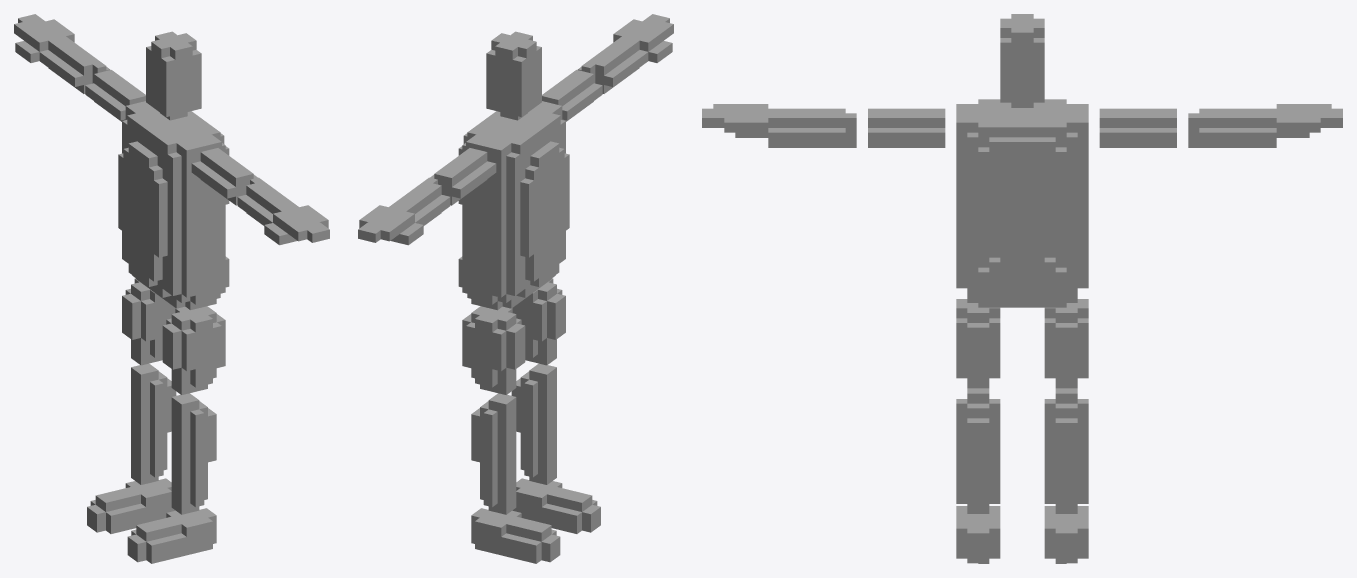
File: Human_01.obj
3 renders of one model, left to right at view 1: azimuth 30°, elevation 25°; view 2: azimuth 150°, elevation 25°; view 3: azimuth 270°, elevation 25°, orthographic. The views are drawn at different scales.
Bounding box in the file's own units: 11 × 54 × 58.
Materials: 1 (1 with a texture image).
